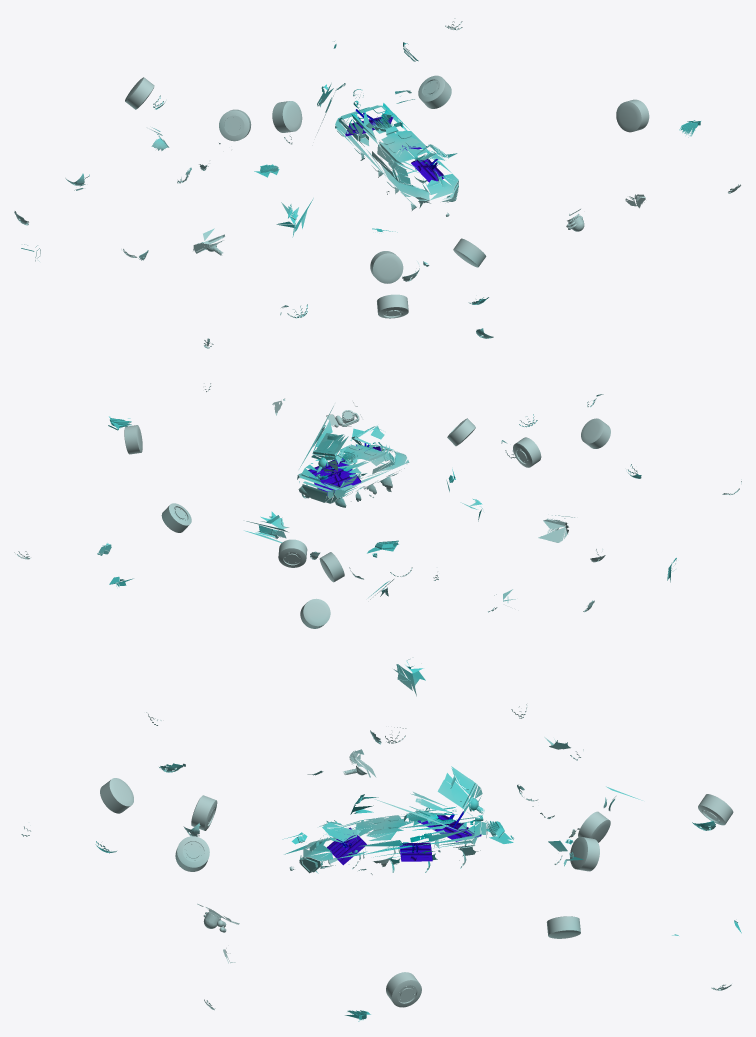
Rendered from centipede_wreck.glb.
The picture shows the model from 3 angles, top to bottom: view 1: azimuth 30°, elevation 25°; view 2: azimuth 150°, elevation 25°; view 3: azimuth 270°, elevation 25°; orthographic projection. The views are drawn at different scales.
Visible parts, largest first — view 1: Centipede, wrecked_wheel_l2, wrecked_wheel_l0, wrecked_wheel_r1, wrecked_wheel_r2, wrecked_wheel_r3, wrecked_wheel_r0, wrecked_wheel_l1; view 2: Centipede, debris (×2), Centipede_plate, wrecked_wheel_l3, wrecked_wheel_r3, wrecked_wheel_r0, wrecked_wheel_r1, wrecked_wheel_l0, frame, wrecked_wheel_l2, wrecked_wheel_r2, wrecked_wheel_l1; view 3: Centipede, Centipede_plate, wrecked_wheel_l1, wrecked_wheel_l2, wrecked_wheel_r0, wrecked_wheel_r3, wrecked_wheel_l3, wrecked_wheel_r1, wrecked_wheel_r2, wrecked_wheel_l0.
Boxes of the visible parts, <box> form: Centipede: <box>335,100,458,216</box>; wrecked_wheel_l2: <box>616,99,649,132</box>; wrecked_wheel_l0: <box>370,251,403,283</box>; wrecked_wheel_r1: <box>418,75,451,108</box>; wrecked_wheel_r2: <box>219,109,251,141</box>; wrecked_wheel_r3: <box>272,101,302,132</box>; wrecked_wheel_r0: <box>377,294,408,318</box>; wrecked_wheel_l1: <box>453,238,486,267</box>; Centipede: <box>297,442,409,507</box>; debris (×2): <box>244,511,568,542</box>; Centipede_plate: <box>311,433,348,473</box>; wrecked_wheel_l3: <box>300,598,330,628</box>; wrecked_wheel_r3: <box>278,539,307,567</box>; wrecked_wheel_r0: <box>581,418,610,448</box>; wrecked_wheel_r1: <box>161,503,191,532</box>; wrecked_wheel_l0: <box>513,437,541,467</box>; frame: <box>308,458,361,495</box>; wrecked_wheel_l2: <box>124,425,142,454</box>; wrecked_wheel_r2: <box>319,552,344,582</box>; wrecked_wheel_l1: <box>447,418,475,446</box>; Centipede: <box>289,806,487,874</box>; Centipede_plate: <box>437,766,484,813</box>; wrecked_wheel_l1: <box>175,836,209,871</box>; wrecked_wheel_l2: <box>386,972,421,1007</box>; wrecked_wheel_r0: <box>100,778,133,813</box>; wrecked_wheel_r3: <box>570,837,599,871</box>; wrecked_wheel_l3: <box>698,794,733,825</box>; wrecked_wheel_r1: <box>546,916,580,938</box>; wrecked_wheel_r2: <box>578,811,610,842</box>; wrecked_wheel_l0: <box>191,795,217,830</box>.
Bounding box in the file's own units: 22.86 × 3.34 × 20.73.
